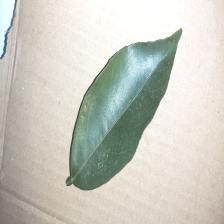healthy: (65, 24, 183, 192)
